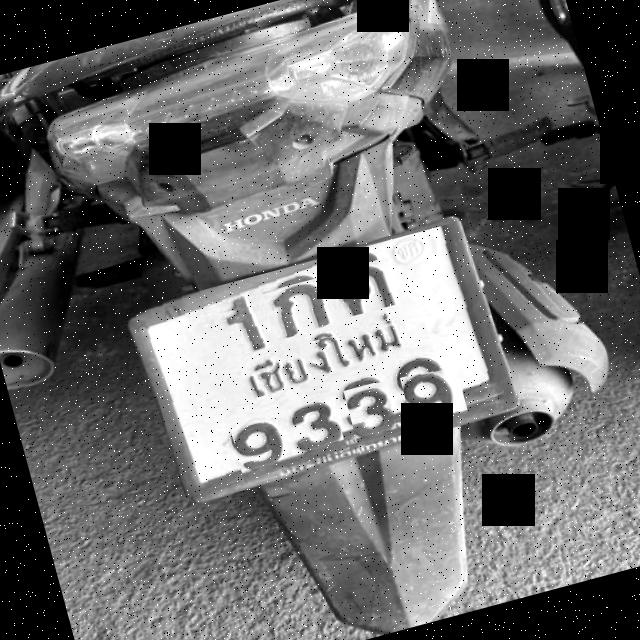letters: (278, 387, 347, 467), (262, 274, 343, 340), (228, 406, 297, 481), (330, 255, 400, 318), (400, 363, 468, 426), (343, 379, 401, 445), (216, 301, 276, 358)
license-plate: (138, 223, 506, 493)
province: (215, 304, 462, 408)
